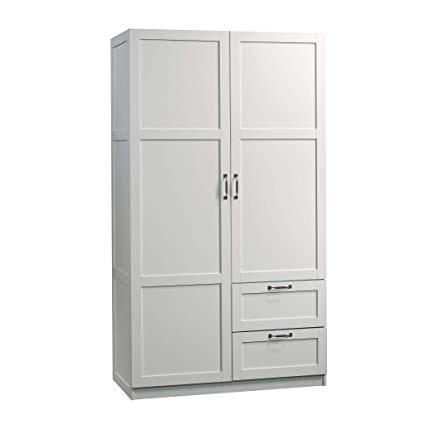cabinet_door: (129, 30, 231, 386), (228, 34, 327, 278), (235, 332, 322, 376), (237, 282, 323, 324)
handle: (263, 282, 294, 293), (266, 330, 295, 341), (222, 174, 231, 204), (232, 174, 240, 203)
